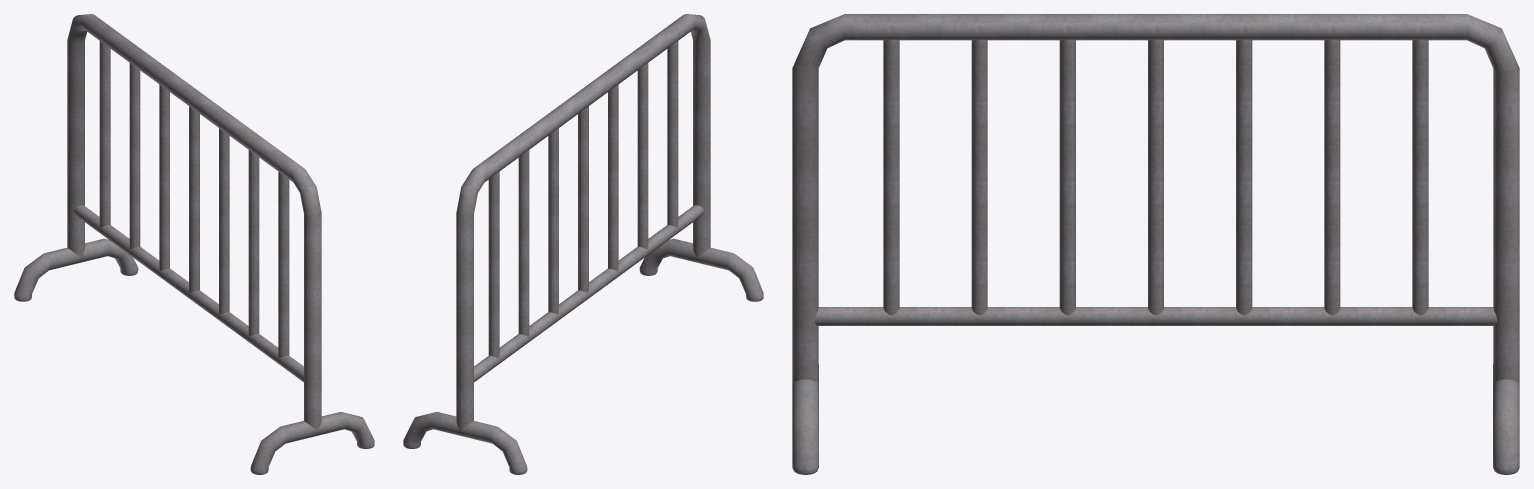
The model's file is simple_metal_fence.glb.
3 views of the same model, side by side, from view 1: azimuth 30°, elevation 25°; view 2: azimuth 150°, elevation 25°; view 3: azimuth 270°, elevation 25° (orthographic). The views are drawn at different scales.
Visible parts, largest first — view 1: Object_2; view 2: Object_2; view 3: Object_2.
Boxes of the visible parts, x1,y1,x2,y2 form: Object_2: (14,14,374,474); Object_2: (403,14,763,474); Object_2: (792,14,1519,474).
Bounding box in the file's own units: 4.72 × 10.43 × 16.5.
Materials: 1 (1 with a texture image).
